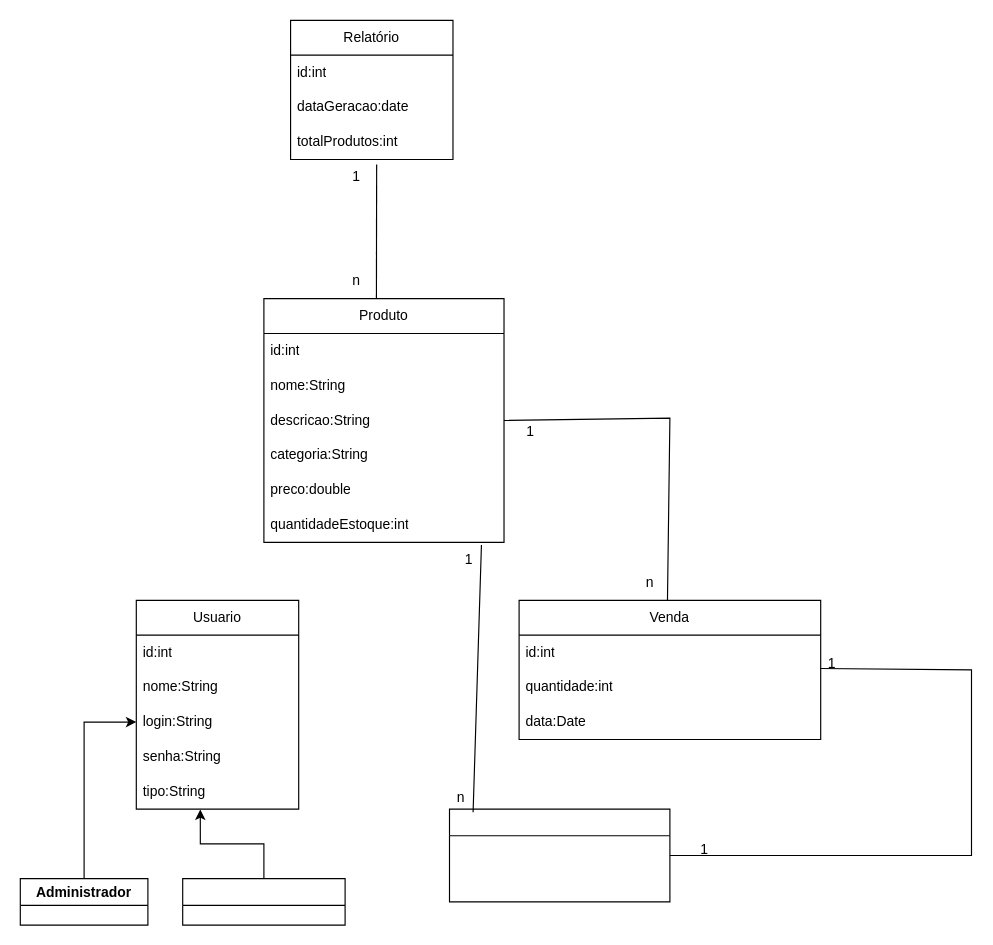
Image size: 993x945. Some labels were removed from this diagram. The shapes that lost their labels are listed below. From the top down, each one's centre as x and y in pixels, then its label:
At (x=559, y=855): "movimentacaoEstoque".
At (x=263, y=901): "operadorEstoque".
